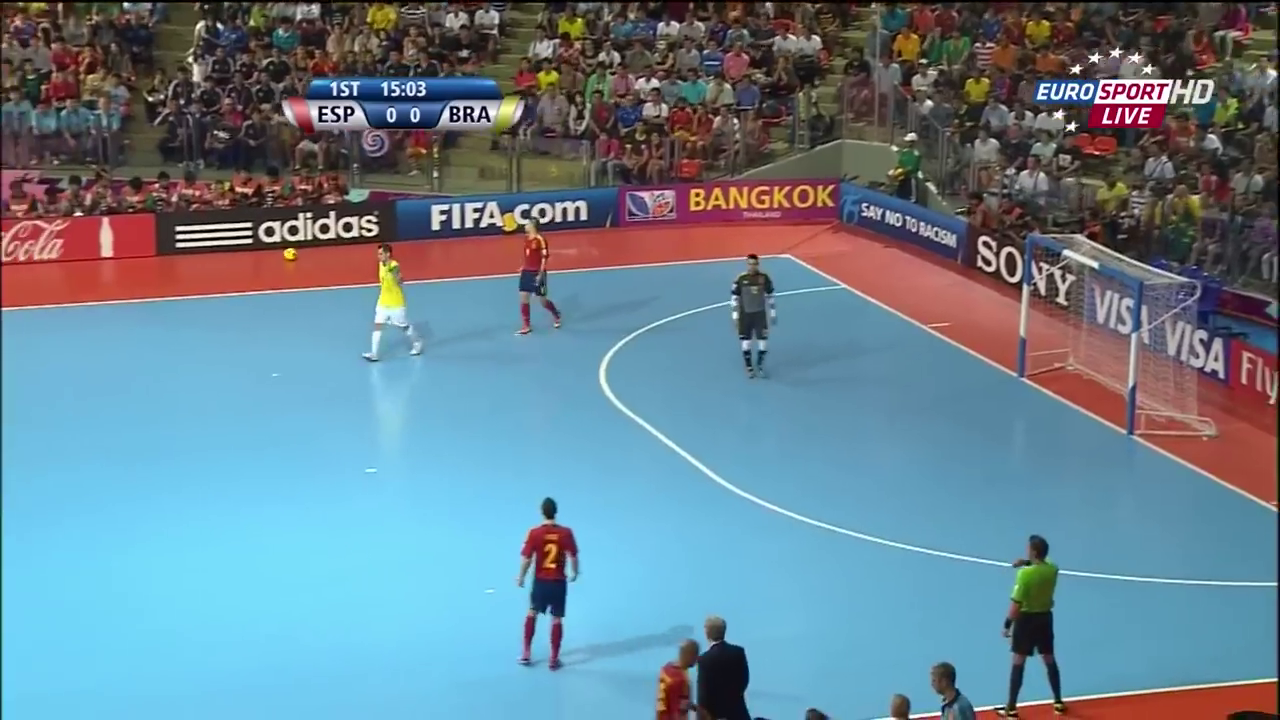ball: (281, 244, 298, 263)
person: (513, 494, 575, 676), (727, 251, 778, 380), (516, 215, 569, 339), (367, 246, 423, 362)
